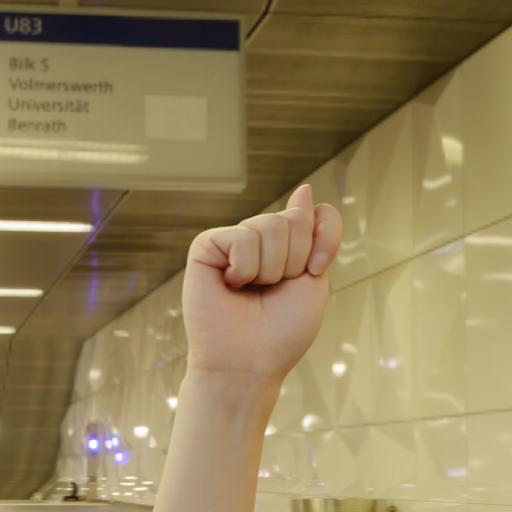T: (153, 152, 373, 391)
